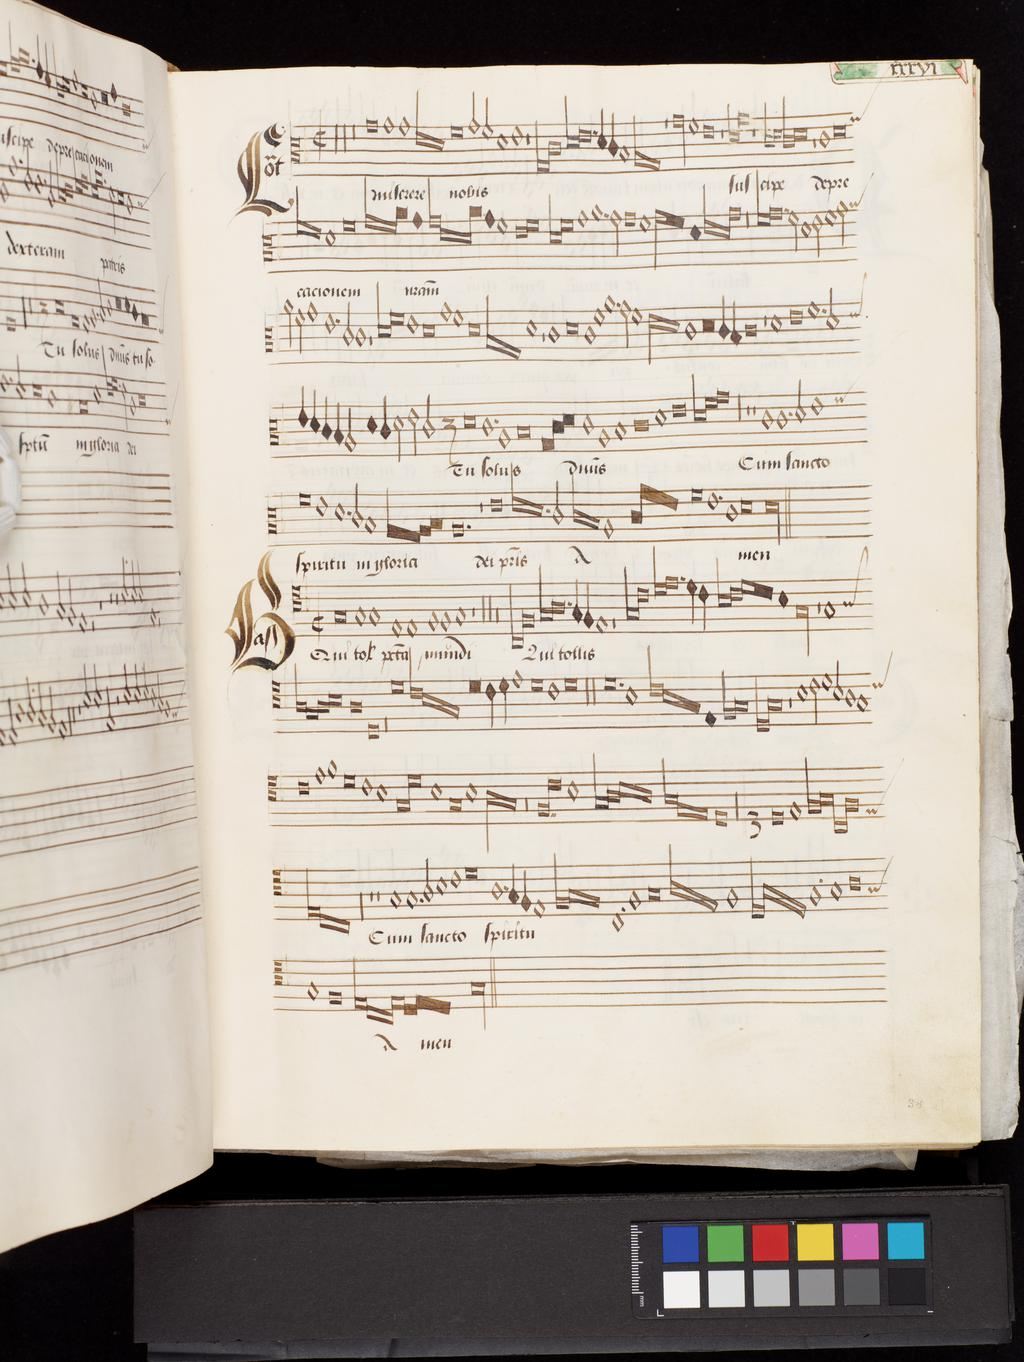3: (439, 410, 459, 451)
breve_5: (668, 395, 689, 425)
breve_6: (460, 408, 483, 435)
breve_7: (630, 412, 653, 439)
breve_8: (512, 416, 535, 446)
c clef_7: (264, 412, 280, 455)
colored semibreve_6: (360, 405, 378, 437)
custos_4: (830, 383, 852, 411)
l1colored breve_10: (541, 417, 557, 455)
l1semibreve_6: (689, 372, 707, 426)
l2breve_3: (716, 386, 731, 406)
l2colored breve_6: (561, 409, 575, 429)
l2colored breve_7: (551, 416, 564, 441)
l2semibreve_4: (703, 394, 721, 416)
longa rest: (733, 384, 744, 441)
minim_5: (406, 398, 419, 459)
minim_6: (392, 407, 406, 464), (795, 375, 807, 426)
minim_7: (419, 388, 436, 444)
minim_9: (342, 397, 357, 458)
point: (488, 411, 501, 430), (783, 405, 796, 423)
semibreve rest: (743, 385, 753, 446), (750, 384, 759, 441)
semibreve_5: (807, 388, 825, 422)
semibreve_6: (652, 400, 670, 432)
semibreve_7: (478, 407, 495, 443), (579, 405, 597, 438), (759, 402, 776, 435), (774, 402, 790, 436)
semibreve_8: (613, 414, 630, 446)
semibreve_9: (596, 420, 614, 454), (496, 420, 512, 456)
semiminim_5: (295, 384, 311, 432)
semiminim_6: (309, 384, 323, 439)
semiminim_7: (321, 389, 335, 445), (381, 385, 395, 441)
semiminim_8: (332, 395, 343, 446)
